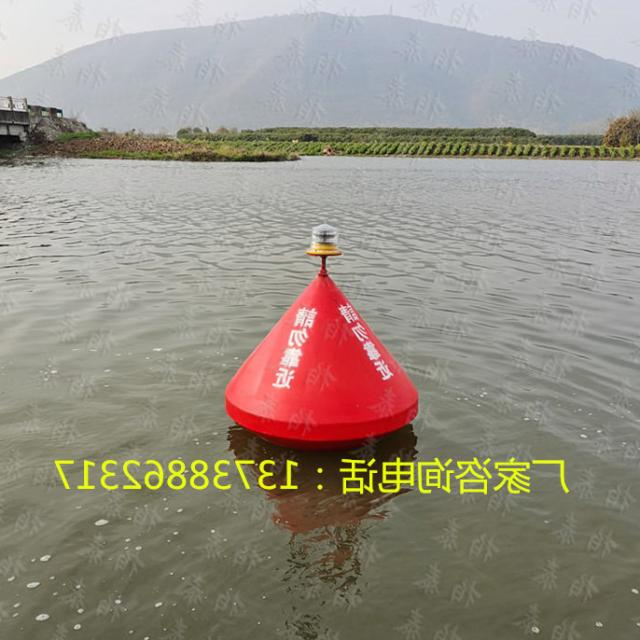buoy: (223, 222, 424, 440)
